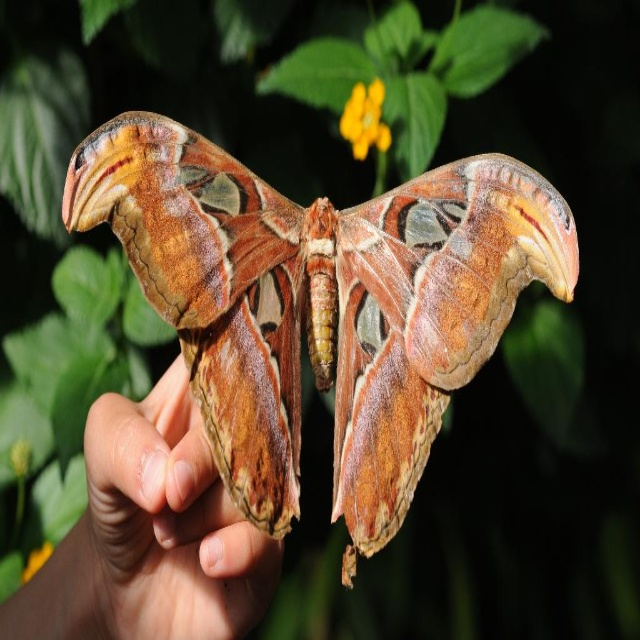Butterfly: (62, 106, 581, 558)
